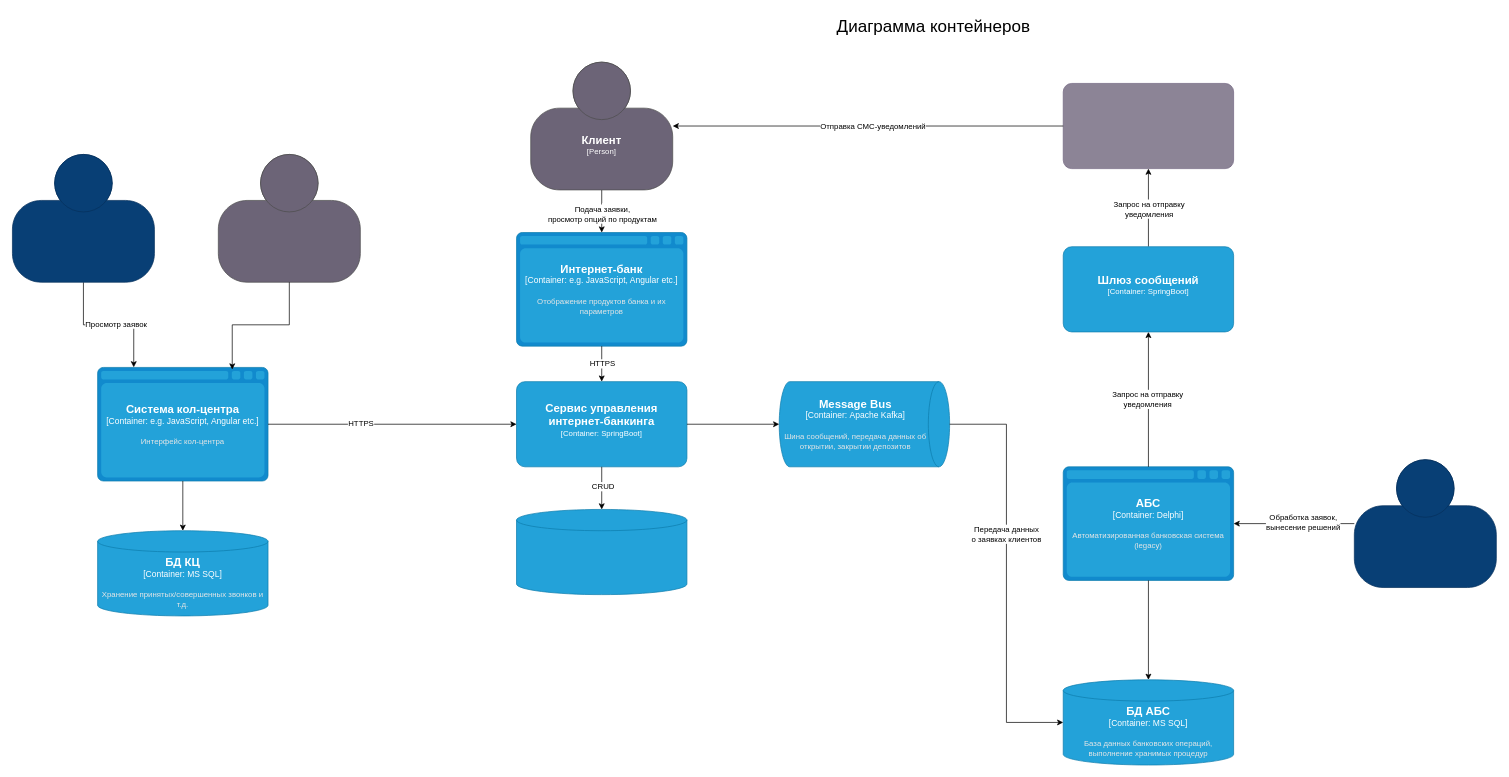
Image size: 1509x777. Some labels were removed from this diagram. Each missing label, with the centre of its shape:
"БД ИБ [Container: MS SQL] Хранение заявок, данных клиентов и т. д." goes at [601,552].
"Сотрудник бэк-офиса [Person]" goes at [1425,523].
"Сотрудник внешнего кол-центра [Person]" goes at [289,218].
"Сотрудник кол-центра [Person]" goes at [83,218].
"Телеком-оператор [Software System]" goes at [1148,126].
